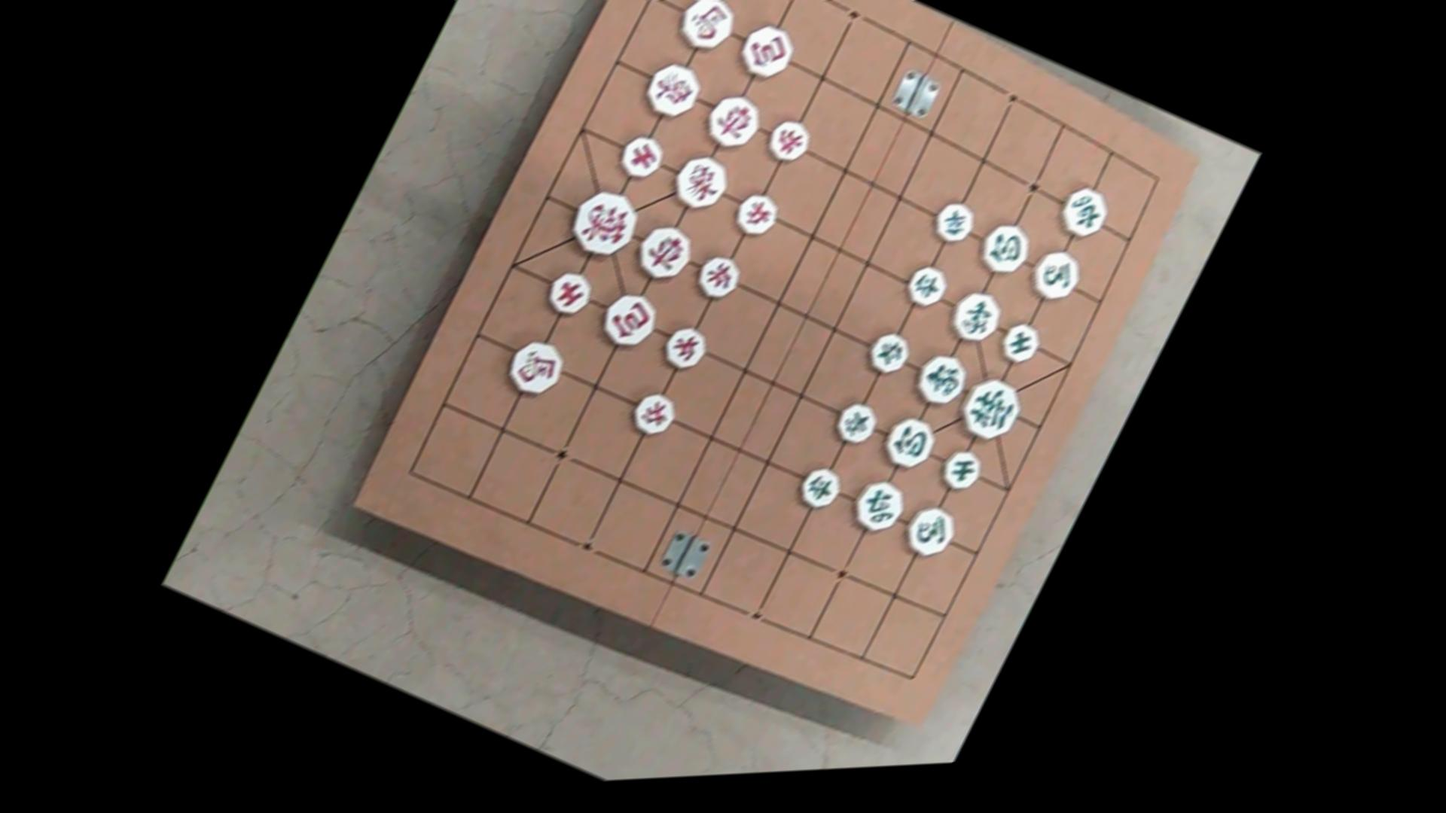cha_green: (845, 473, 912, 540), (1053, 179, 1116, 244)
cha_red: (699, 86, 769, 157), (630, 217, 700, 288)
jol_green: (795, 461, 847, 515), (929, 195, 981, 248), (830, 397, 882, 449), (863, 327, 915, 379), (901, 260, 952, 312)
jol_red: (761, 111, 817, 169), (691, 248, 747, 305), (627, 386, 682, 442), (729, 187, 784, 242), (658, 320, 713, 375)
ma_green: (1023, 242, 1088, 309), (898, 498, 962, 565)
ma_red: (502, 332, 571, 403), (672, 0, 743, 59)
po_green: (876, 409, 943, 477), (973, 215, 1039, 281)
po_red: (594, 285, 664, 356), (734, 17, 801, 86)
sa_green: (935, 444, 987, 497), (995, 316, 1046, 368)
sa_red: (541, 265, 598, 321), (614, 129, 670, 184)
sang_green: (908, 346, 975, 413), (943, 282, 1008, 350)
sang_red: (667, 147, 736, 217), (639, 56, 707, 125)
wang_green: (951, 369, 1030, 449)
wang_red: (563, 180, 648, 266)
